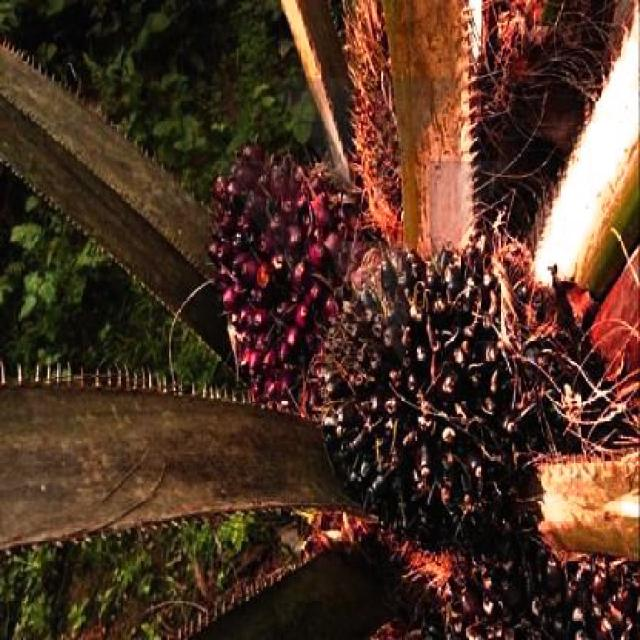palm-oil: (297, 237, 633, 547), (202, 148, 351, 402)
